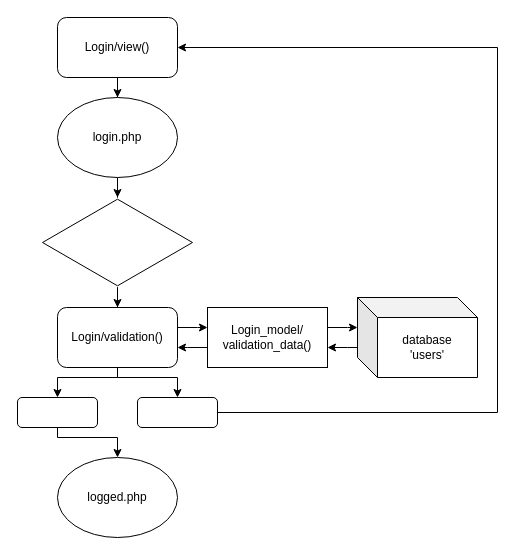
This 523x555 diagram has some shape labels left out. The box of each missing label's shape, as (x1, y1, x2, y2) in pixels:
'username' 'password': (42, 196, 192, 288)
false: (136, 396, 218, 428)
true: (16, 396, 98, 428)
